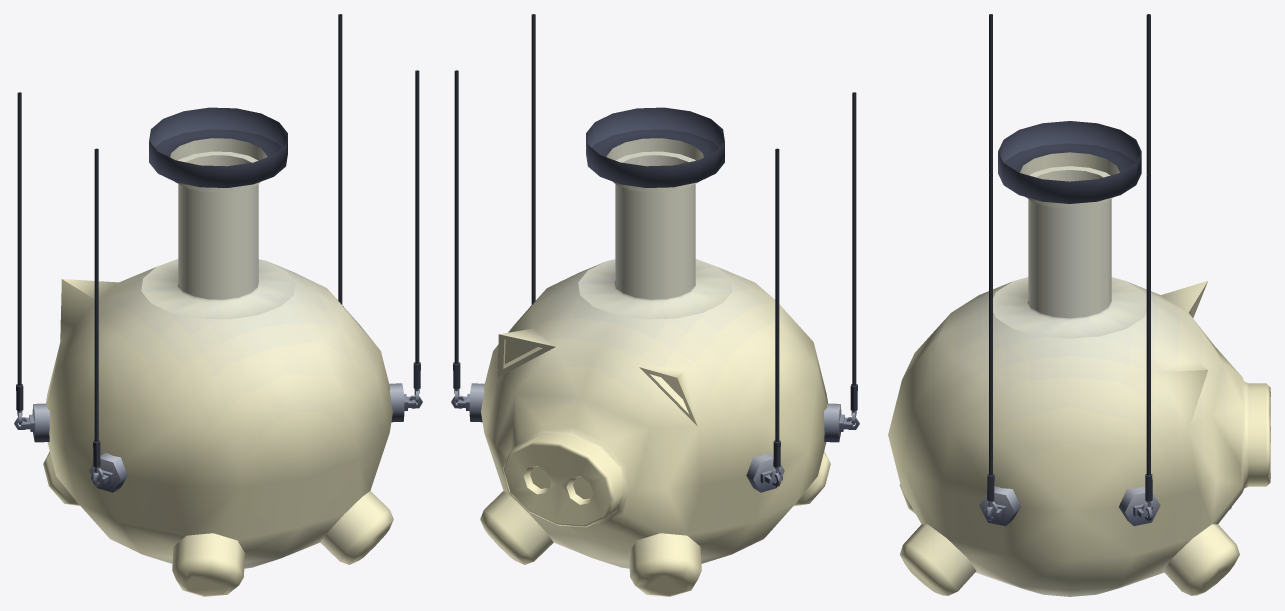
File: squidgame_props_moneybox.fbx
The picture shows the model from 3 angles, left to right: view 1: azimuth 30°, elevation 25°; view 2: azimuth 150°, elevation 25°; view 3: azimuth 270°, elevation 25°; orthographic projection. The views are drawn at different scales.
Parts seen in each view (by area): view 1: squidgame_props_moneybox_glass, squidgame_props_moneybox; view 2: squidgame_props_moneybox_glass, squidgame_props_moneybox; view 3: squidgame_props_moneybox_glass, squidgame_props_moneybox.
Boxes of the visible parts, x1,y1,x2,y2 form: squidgame_props_moneybox_glass: (43,138,393,596); squidgame_props_moneybox: (14,14,422,492); squidgame_props_moneybox_glass: (480,138,830,596); squidgame_props_moneybox: (451,14,859,492); squidgame_props_moneybox_glass: (888,152,1270,596); squidgame_props_moneybox: (979,14,1160,526).
Size of the model in its own units: 3.59 by 4.89 by 3.51.
